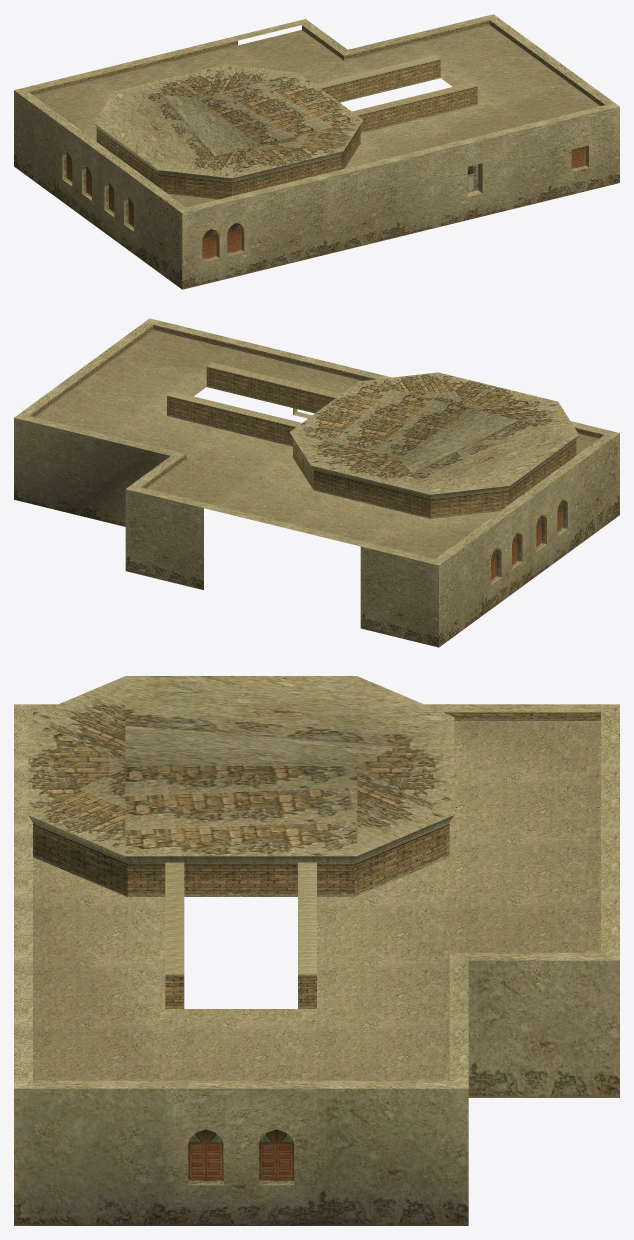
File: M7Z2_StuccoBuilding.glb
3 renders of one model, top to bottom at view 1: azimuth 30°, elevation 25°; view 2: azimuth 150°, elevation 25°; view 3: azimuth 270°, elevation 25°, orthographic. The views are drawn at different scales.
Visible parts, largest first — view 1: M7Z2_STUCCOBUILDING; view 2: M7Z2_STUCCOBUILDING; view 3: M7Z2_STUCCOBUILDING.
Boxes of the visible parts, x1,y1,x2,y2 form: M7Z2_STUCCOBUILDING: (14,14,619,289); M7Z2_STUCCOBUILDING: (14,318,619,647); M7Z2_STUCCOBUILDING: (14,676,619,1225).
Bounding box in the file's own units: 24 × 5 × 16.
Materials: 7 (7 with a texture image).
